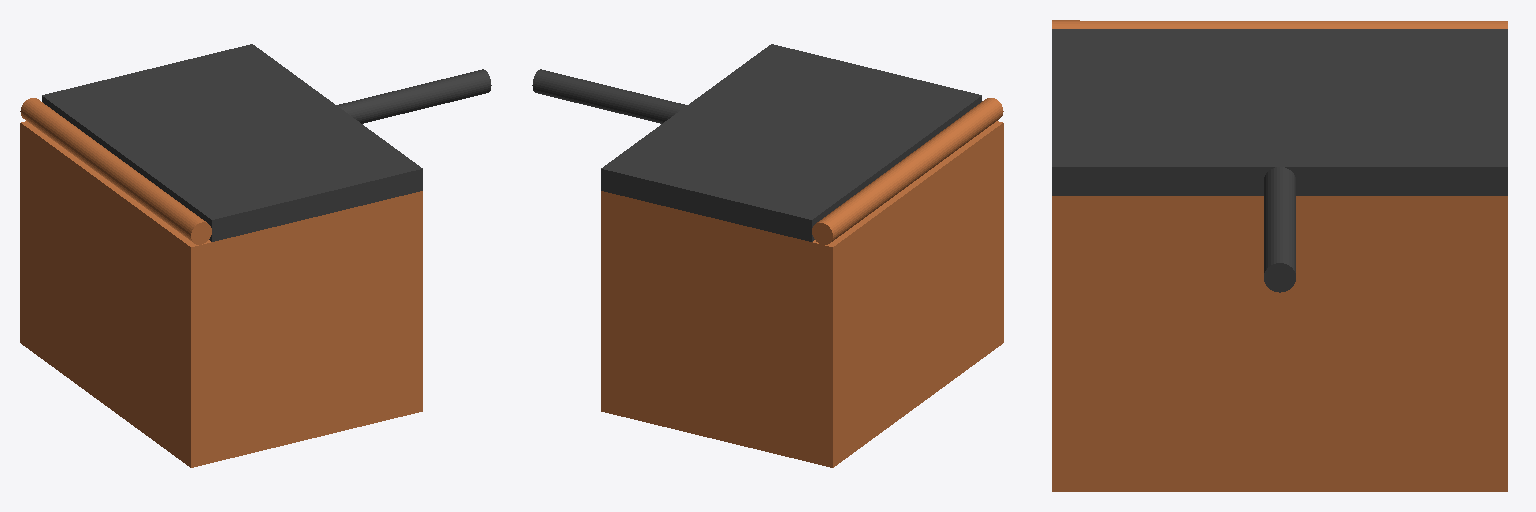
The robot description file, URDF, robot "chest":
<?xml version="1.0" ?>

<robot name="chest">
    <material name="Body">
        <color rgba="0.8 0.5 0.3 1.0"/>
    </material>
    <material name="Door">
        <color rgba="0.3 0.3 0.3 1.0"/>
    </material>

    <link name="chest_back_wall">
        <inertial>
            <origin rpy="0 0 0" xyz="0 0 0"/>
            <mass value="0"/>
            <inertia ixx="0.1" ixy="0" ixz="0" iyy="0.1" iyz="0" izz="0.1"/>
        </inertial>
        <visual>
            <origin rpy="0 0 0" xyz="0 0 0"/>
            <geometry>
                <box size="0.01 0.14 0.10"/>
            </geometry>
            <material name="Body"/>
        </visual>
        <collision>
            <origin rpy="0 0 0" xyz="0 0 0"/>
            <geometry>
                <box size="0.01 0.14 0.10"/>
            </geometry>
        </collision>
    </link>

    <joint name="chest_back_front_wall_joint" type="fixed">
        <origin rpy="0 0 0" xyz="0.10 0.0 0"/>
        <parent link="chest_back_wall"/>
        <child link="chest_front_wall"/>
    </joint>
    <link name="chest_front_wall">
        <inertial>
            <origin rpy="0 0 0" xyz="0 0 0"/>
            <mass value="0"/>
            <inertia ixx="0.1" ixy="0" ixz="0" iyy="0.1" iyz="0" izz="0.1"/>
        </inertial>
        <visual>
            <origin rpy="0 0 0" xyz="0 0 0"/>
            <geometry>
                <box size="0.01 0.14 0.10"/>
            </geometry>
            <material name="Body"/>
        </visual>
        <collision>
            <origin rpy="0 0 0" xyz="0 0 0"/>
            <geometry>
                <box size="0.01 0.14 0.10"/>
            </geometry>
        </collision>
    </link>

    <joint name="chest_back_left_wall_joint" type="fixed">
        <origin rpy="0 0 0" xyz="0.05 0.065 0"/>
        <parent link="chest_back_wall"/>
        <child link="chest_left_wall"/>
    </joint>
    <link name="chest_left_wall">
        <inertial>
            <origin rpy="0 0 0" xyz="0 0 0"/>
            <mass value="0"/>
            <inertia ixx="0.1" ixy="0" ixz="0" iyy="0.1" iyz="0" izz="0.1"/>
        </inertial>
        <visual>
            <origin rpy="0 0 0" xyz="0 0 0"/>
            <geometry>
                <box size="0.09 0.01 0.10"/>
            </geometry>
            <material name="Body"/>
        </visual>
        <collision>
            <origin rpy="0 0 0" xyz="0 0 0"/>
            <geometry>
                <box size="0.09 0.01 0.10"/>
            </geometry>
        </collision>
    </link>

    <joint name="chest_back_right_wall_joint" type="fixed">
        <origin rpy="0 0 0" xyz="0.05 -0.065 0.0"/>
        <parent link="chest_back_wall"/>
        <child link="chest_right_wall"/>
    </joint>
    <link name="chest_right_wall">
        <inertial>
            <origin rpy="0 0 0" xyz="0 0 0"/>
            <mass value="0"/>
            <inertia ixx="0.1" ixy="0" ixz="0" iyy="0.1" iyz="0" izz="0.1"/>
        </inertial>
        <visual>
            <origin rpy="0 0 0" xyz="0 0 0"/>
            <geometry>
                <box size="0.09 0.01 0.10"/>
            </geometry>
            <material name="Body"/>
        </visual>
        <collision>
            <origin rpy="0 0 0" xyz="0 0 0"/>
            <geometry>
                <box size="0.09 0.01 0.10"/>
            </geometry>
        </collision>
    </link>

    <joint name="chest_back_wall_bearing_joint" type="revolute">
        <origin rpy="1.57 0 0" xyz="0.0 0.0 0.055"/>
        <parent link="chest_back_wall"/>
        <child link="chest_door_bearing"/>
        <axis xyz="0 0 1"/>
        <limit effort="200" lower="0.0" upper="1.57" velocity="10"/>
    </joint>
    <link name="chest_door_bearing">
        <inertial>
            <origin rpy="0 0 0" xyz="0 0 0"/>
            <mass value="1"/>
            <inertia ixx="0.1" ixy="0" ixz="0" iyy="0.1" iyz="0" izz="0.1"/>
        </inertial>
        <visual>
            <origin rpy="0 0 0" xyz="0 0 0"/>
            <geometry>
                <cylinder radius="0.005" length="0.14"/>
            </geometry>
            <material name="Body"/>
        </visual>
        <collision>
            <origin rpy="0 0 0" xyz="0 0 0"/>
            <geometry>
                <cylinder radius="0.005" length="0.14"/>
            </geometry>
        </collision>
    </link>

    <joint name="chest_door_bearing_joint" type="fixed">
        <origin rpy="-1.57 0 0" xyz="0.055 0.0 0.0"/>
        <parent link="chest_door_bearing"/>
        <child link="chest_door"/>
    </joint>
    <link name="chest_door">
        <inertial>
            <origin rpy="0 0 0" xyz="0 0 0"/>
            <mass value="2"/>
            <inertia ixx="0.1" ixy="0" ixz="0" iyy="0.1" iyz="0" izz="0.1"/>
        </inertial>
        <visual>
            <origin rpy="0 0 0" xyz="0 0 0"/>
            <geometry>
                <box size="0.10 0.14 0.01"/>
            </geometry>
            <material name="Door"/>
        </visual>
        <collision>
            <origin rpy="0 0 0" xyz="0 0 0"/>
            <geometry>
                <box size="0.10 0.14 0.01"/>
            </geometry>
        </collision>
    </link>

    <joint name="chest_door_handle_joint" type="fixed">
        <origin rpy="0 1.57 0" xyz="0.085    0.0 0.0"/>
        <parent link="chest_door"/>
        <child link="chest_door_handle"/>
    </joint>
    <link name="chest_door_handle">
        <contact>
            <lateral_friction value="1.0"/>
            <rolling_friction value="0.0"/>
            <inertia_scaling value="3.0"/>
            <contact_cfm value="0.0"/>
            <contact_erp value="1.0"/>
        </contact>
        <inertial>
            <origin rpy="0 0 0" xyz="0 0 0"/>
            <mass value="2"/>
            <inertia ixx="0.1" ixy="0" ixz="0" iyy="0.1" iyz="0" izz="0.1"/>
        </inertial>
        <visual>
            <origin rpy="0 0 0" xyz="0 0 0"/>
            <geometry>
                <cylinder radius="0.005" length="0.07"/>
            </geometry>
            <material name="Door"/>
        </visual>
        <collision>
            <origin rpy="0 0 0" xyz="0 0 0"/>
            <geometry>
                <cylinder radius="0.005" length="0.08"/>
            </geometry>
        </collision>
    </link>
</robot>

--- Facts derived from the render (not from the file) ---
The picture shows the robot from 3 angles, left to right: view 1: azimuth 30°, elevation 25°; view 2: azimuth 150°, elevation 25°; view 3: azimuth 270°, elevation 25°; orthographic projection.
Robot: chest — 7 links, 6 joints (1 revolute, 5 fixed); root link chest_back_wall; default pose: all joints at 0.
Visible links, largest first — view 1: chest_back_wall, chest_right_wall, chest_door, chest_door_bearing, chest_front_wall, chest_door_handle; view 2: chest_back_wall, chest_left_wall, chest_door, chest_door_bearing, chest_front_wall, chest_door_handle; view 3: chest_front_wall, chest_door, chest_door_handle, chest_door_bearing.
Boxes of the visible links, x1=… form: chest_back_wall: x1=20, y1=121, x2=211, y2=467; chest_right_wall: x1=212, y1=196, x2=401, y2=462; chest_door: x1=42, y1=44, x2=422, y2=241; chest_door_bearing: x1=20, y1=98, x2=211, y2=244; chest_front_wall: x1=402, y1=191, x2=422, y2=416; chest_door_handle: x1=337, y1=69, x2=491, y2=123; chest_back_wall: x1=812, y1=121, x2=1003, y2=467; chest_left_wall: x1=622, y1=196, x2=811, y2=462; chest_door: x1=601, y1=44, x2=981, y2=241; chest_door_bearing: x1=812, y1=98, x2=1003, y2=244; chest_front_wall: x1=601, y1=191, x2=621, y2=416; chest_door_handle: x1=532, y1=69, x2=686, y2=123; chest_front_wall: x1=1052, y1=196, x2=1507, y2=491; chest_door: x1=1052, y1=29, x2=1507, y2=195; chest_door_handle: x1=1264, y1=167, x2=1295, y2=292; chest_door_bearing: x1=1052, y1=20, x2=1507, y2=28.
Size in the robot's own frame: 0.18 by 0.14 by 0.1101 metres.
Geometry: primitives only (box / cylinder / sphere), no mesh files.